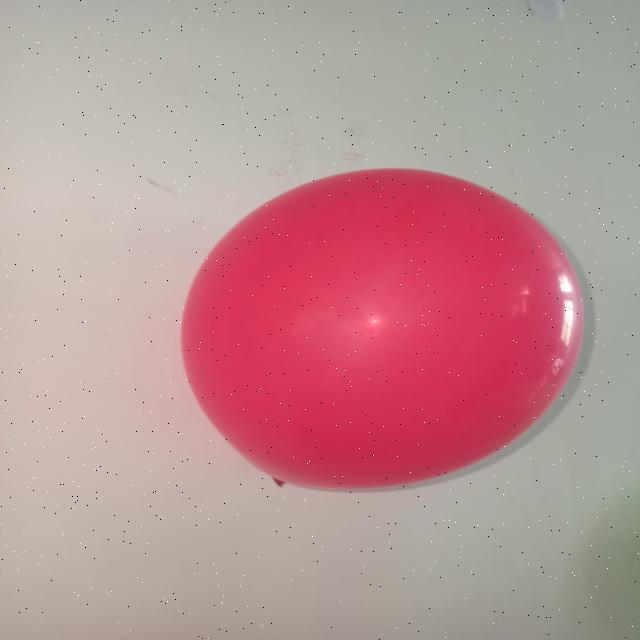red: (179, 166, 585, 491)
